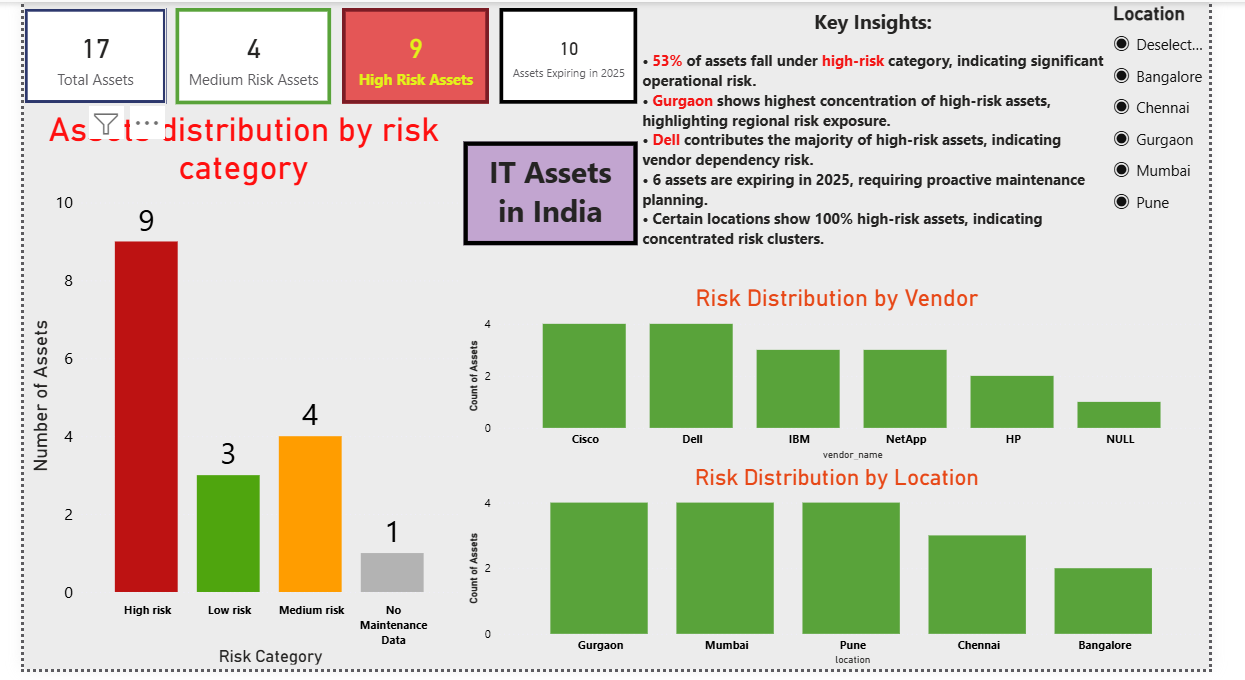

The dashboard page shown, as its layout file describes it:
{"tool":"powerbi","page":{"name":"Asset Risk Distribution","canvas":[1280,720],"ordinal":0},"visuals":[{"type":"columnChart","title":"Assets distribution by risk category","fields":{"Category":["asset_data.risk_category"],"Y":["CountNonNull(asset_data.asset_id)"]},"box":[0,116.6,474.4,604],"z":0},{"type":"card","fields":{"Values":["Count(asset_data.asset_id)"]},"box":[513.3,6.5,149,103.6],"z":4000},{"type":"clusteredColumnChart","title":"Risk Distribution by Vendor","fields":{"Category":["asset_data.vendor_name"],"Y":["Count(asset_data.asset_id)"]},"box":[474,304,806,194],"z":5000},{"type":"clusteredColumnChart","title":"Risk Distribution by Location","fields":{"Category":["asset_data.location"],"Y":["Count(asset_data.asset_id)"]},"box":[474,498,806,222],"z":6000},{"type":"listSlicer","title":"Location","fields":{"Values":["asset_data.location"]},"box":[1170.7,0,110.1,309.3],"z":7000},{"type":"textbox","box":[662.3,0,508.4,309.3],"z":8000},{"type":"card","fields":{"Values":["Count(asset_data.asset_id)"]},"box":[0,6.5,153.8,103.6],"z":8001},{"type":"card","fields":{"Values":["Count(asset_data.asset_id)"]},"box":[343.3,6.5,158.7,103.6],"z":8002},{"type":"card","fields":{"Values":["Count(asset_data.asset_id)"]},"box":[163,6,168,104],"z":8003},{"type":"textbox","box":[474.4,150.6,187.8,111.7],"z":8004}]}

Visuals, with their boxes in screenshot pixels (x1, y1, x2, y2), scaled from the page's 1280x720 canvas onto the 1245x680 screenshot:
"Assets distribution by risk category" columnChart: locate(0, 110, 461, 679)
card - Count(asset_data.asset_id): locate(499, 6, 644, 104)
"Risk Distribution by Vendor" clusteredColumnChart: locate(461, 287, 1244, 470)
"Risk Distribution by Location" clusteredColumnChart: locate(461, 470, 1244, 679)
"Location" listSlicer: locate(1139, 0, 1244, 292)
textbox: locate(644, 0, 1139, 292)
card - Count(asset_data.asset_id): locate(0, 6, 150, 104)
card - Count(asset_data.asset_id): locate(334, 6, 488, 104)
card - Count(asset_data.asset_id): locate(159, 6, 322, 104)
textbox: locate(461, 142, 644, 248)
